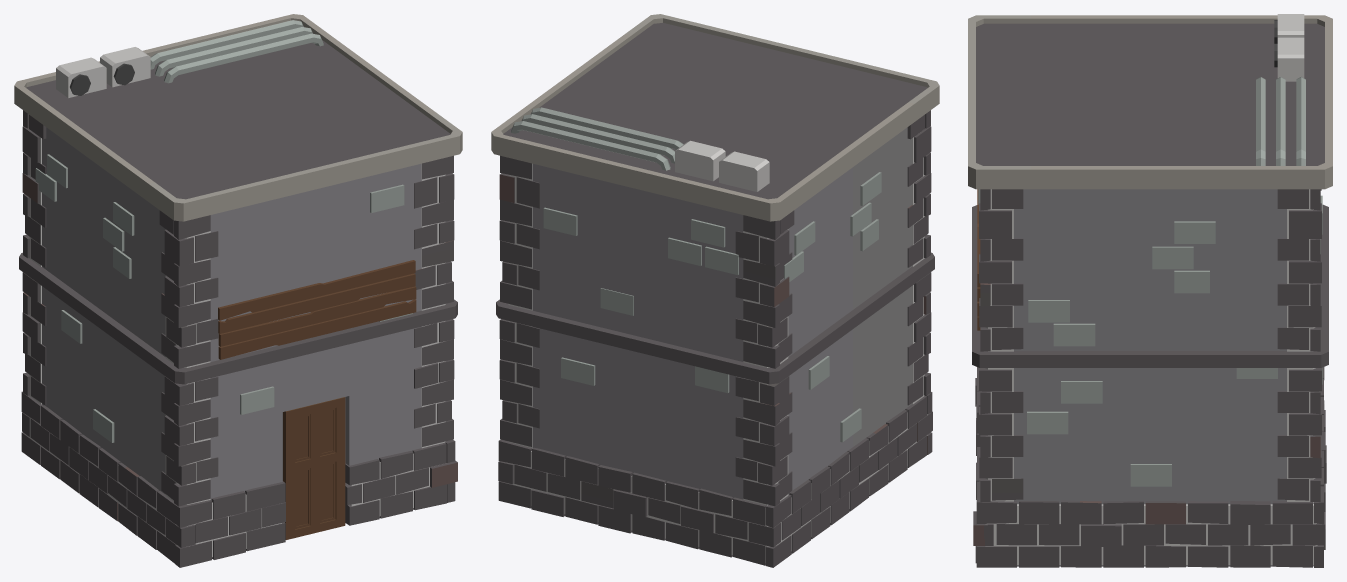
File: 2Story Sign.glb
The picture shows the model from 3 angles, left to right: view 1: azimuth 30°, elevation 25°; view 2: azimuth 150°, elevation 25°; view 3: azimuth 270°, elevation 25°; orthographic projection. The views are drawn at different scales.
Parts seen in each view (by area): view 1: 2Story_Sign; view 2: 2Story_Sign; view 3: 2Story_Sign.
Boxes of the visible parts, x1=… form: 2Story_Sign: x1=14, y1=14, x2=462, y2=567; 2Story_Sign: x1=491, y1=14, x2=939, y2=567; 2Story_Sign: x1=968, y1=14, x2=1332, y2=567.
Size of the model in its own units: 5.17 by 6.62 by 5.17.
1 material, 1 textured.
